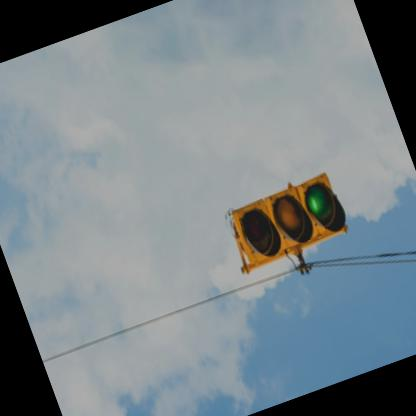trafficlight: (223, 174, 355, 274)
